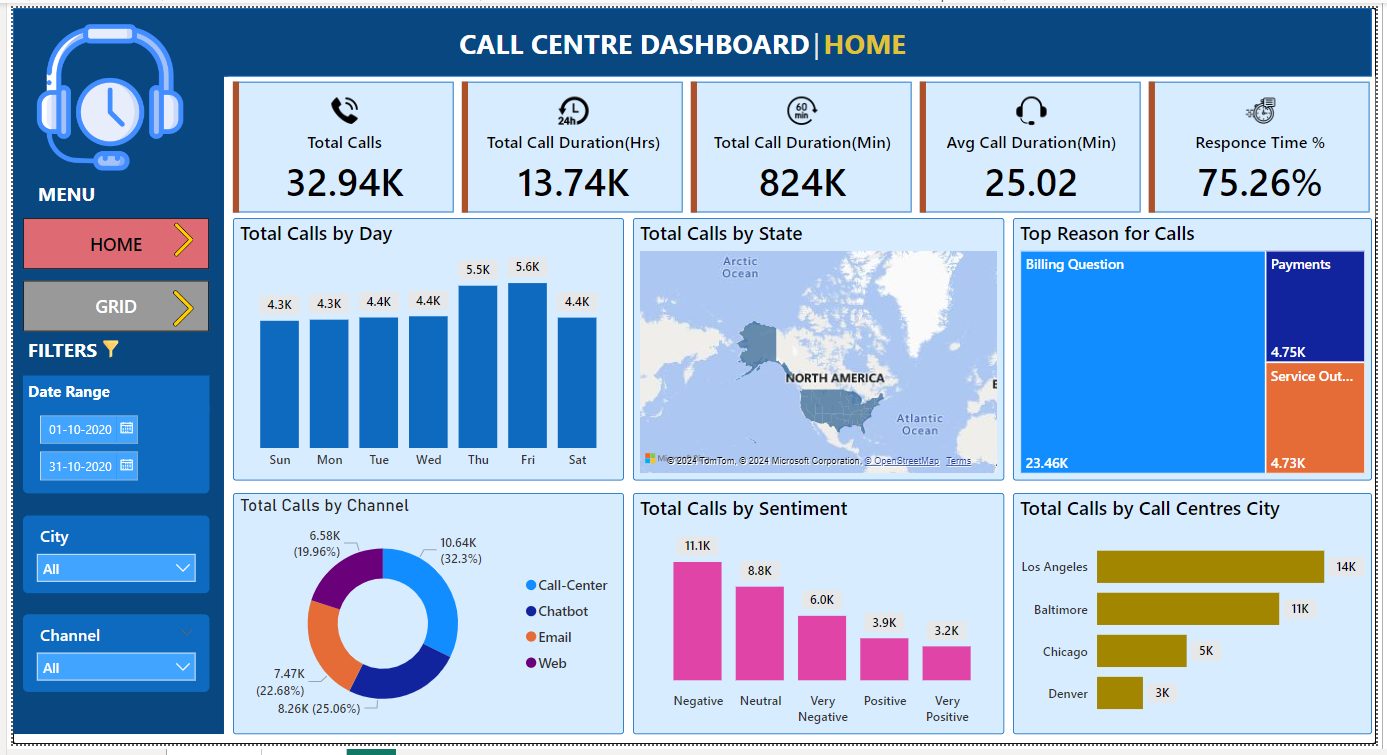

What the dashboard file says about the page in this screenshot:
{"tool":"powerbi","page":{"name":"HOME","canvas":[1333,720],"ordinal":0},"visuals":[{"type":"shape","box":[0,0,1329.2,67.3],"z":0},{"type":"shape","box":[0,34.2,206.7,676.2],"z":1},{"type":"cardVisual","fields":{"Data":["Call_Center Dataset.Total Calls","Call_Center Dataset.Total Call Duration(Hrs)","Call_Center Dataset.Total Call Duration(Min)","Call_Center Dataset.Avg Call Duration(Min)","Call_Center Dataset.Responce Time %"]},"box":[210.3,67.3,1122.6,138.2],"z":2},{"type":"columnChart","fields":{"Category":["Date Table.Day"],"Y":["Call_Center Dataset.Total Calls"]},"box":[215.2,205.4,382.7,256.8],"z":3},{"type":"treemap","title":"Top Reason for Calls","fields":{"Group":["Call_Center Dataset.Reason"],"Values":["Call_Center Dataset.Total Calls"]},"box":[978.3,205.4,351,256.8],"z":4},{"type":"donutChart","fields":{"Y":["Call_Center Dataset.Total Calls"],"Category":["Call_Center Dataset.Channel"]},"box":[215.2,474.5,382.7,236],"z":5},{"type":"columnChart","fields":{"Y":["Call_Center Dataset.Total Calls"],"Category":["Call_Center Dataset.Sentiment"]},"box":[606.5,474.5,363.2,236],"z":6},{"type":"barChart","title":"Total Calls by Call Centres City","fields":{"Y":["Call_Center Dataset.Total Calls"],"Category":["Call_Center Dataset.Call-Centres City"]},"box":[978.3,474.5,351,236],"z":7},{"type":"filledMap","title":"Total Calls by State","fields":{"Category":["Call_Center Dataset.State"],"Y":["Call_Center Dataset.Total Calls"]},"box":[606.5,205.4,363.2,256.8],"z":8},{"type":"textbox","box":[431.7,11,712.9,56.3],"z":9},{"type":"slicer","fields":{"Values":["Call_Center Dataset.City"]},"box":[9.8,496.5,182.2,75.8],"z":10},{"type":"slicer","fields":{"Values":["Call_Center Dataset.Channel"]},"box":[9.8,593.1,182.2,75.8],"z":11},{"type":"image","box":[9.8,11,170,152.9],"z":12},{"type":"slicer","fields":{"Values":["Date Table.Date"]},"box":[9.8,385.2,182.2,89.3],"z":13},{"type":"textbox","box":[9.8,359.5,182.2,35.5],"z":14},{"type":"textbox","box":[9.8,316.7,91.7,42.8],"z":15},{"type":"textbox","box":[19.6,163.9,84.4,41.6],"z":16},{"type":"pageNavigator","box":[9.8,205.4,182.2,50.1],"z":17},{"type":"pageNavigator","box":[9.8,266.6,182.2,50.1],"z":18},{"type":"image","box":[141.8,271.5,50.1,45.2],"z":19},{"type":"image","box":[141.8,205.4,50.1,42.8],"z":20},{"type":"image","box":[72.1,320.4,46.5,26.9],"z":21}]}

Visuals, with their boxes in screenshot pixels (x1, y1, x2, y2), scaled from the page's 1333x720 canvas onto the 1387x755 screenshot:
shape: detection(0, 0, 1383, 71)
shape: detection(0, 36, 215, 745)
cardVisual - Call_Center Dataset.Total Calls x Call_Center Dataset.Total Call Duration(Hrs): detection(219, 71, 1386, 215)
columnChart - Date Table.Day x Call_Center Dataset.Total Calls: detection(224, 215, 622, 485)
"Top Reason for Calls" treemap: detection(1018, 215, 1383, 485)
donutChart - Call_Center Dataset.Total Calls x Call_Center Dataset.Channel: detection(224, 498, 622, 745)
columnChart - Call_Center Dataset.Total Calls x Call_Center Dataset.Sentiment: detection(631, 498, 1009, 745)
"Total Calls by Call Centres City" barChart: detection(1018, 498, 1383, 745)
"Total Calls by State" filledMap: detection(631, 215, 1009, 485)
textbox: detection(449, 12, 1191, 71)
slicer - Call_Center Dataset.City: detection(10, 521, 200, 600)
slicer - Call_Center Dataset.Channel: detection(10, 622, 200, 701)
image: detection(10, 12, 187, 172)
slicer - Date Table.Date: detection(10, 404, 200, 498)
textbox: detection(10, 377, 200, 414)
textbox: detection(10, 332, 106, 377)
textbox: detection(20, 172, 108, 215)
pageNavigator: detection(10, 215, 200, 268)
pageNavigator: detection(10, 280, 200, 332)
image: detection(148, 285, 200, 332)
image: detection(148, 215, 200, 260)
image: detection(75, 336, 123, 364)
